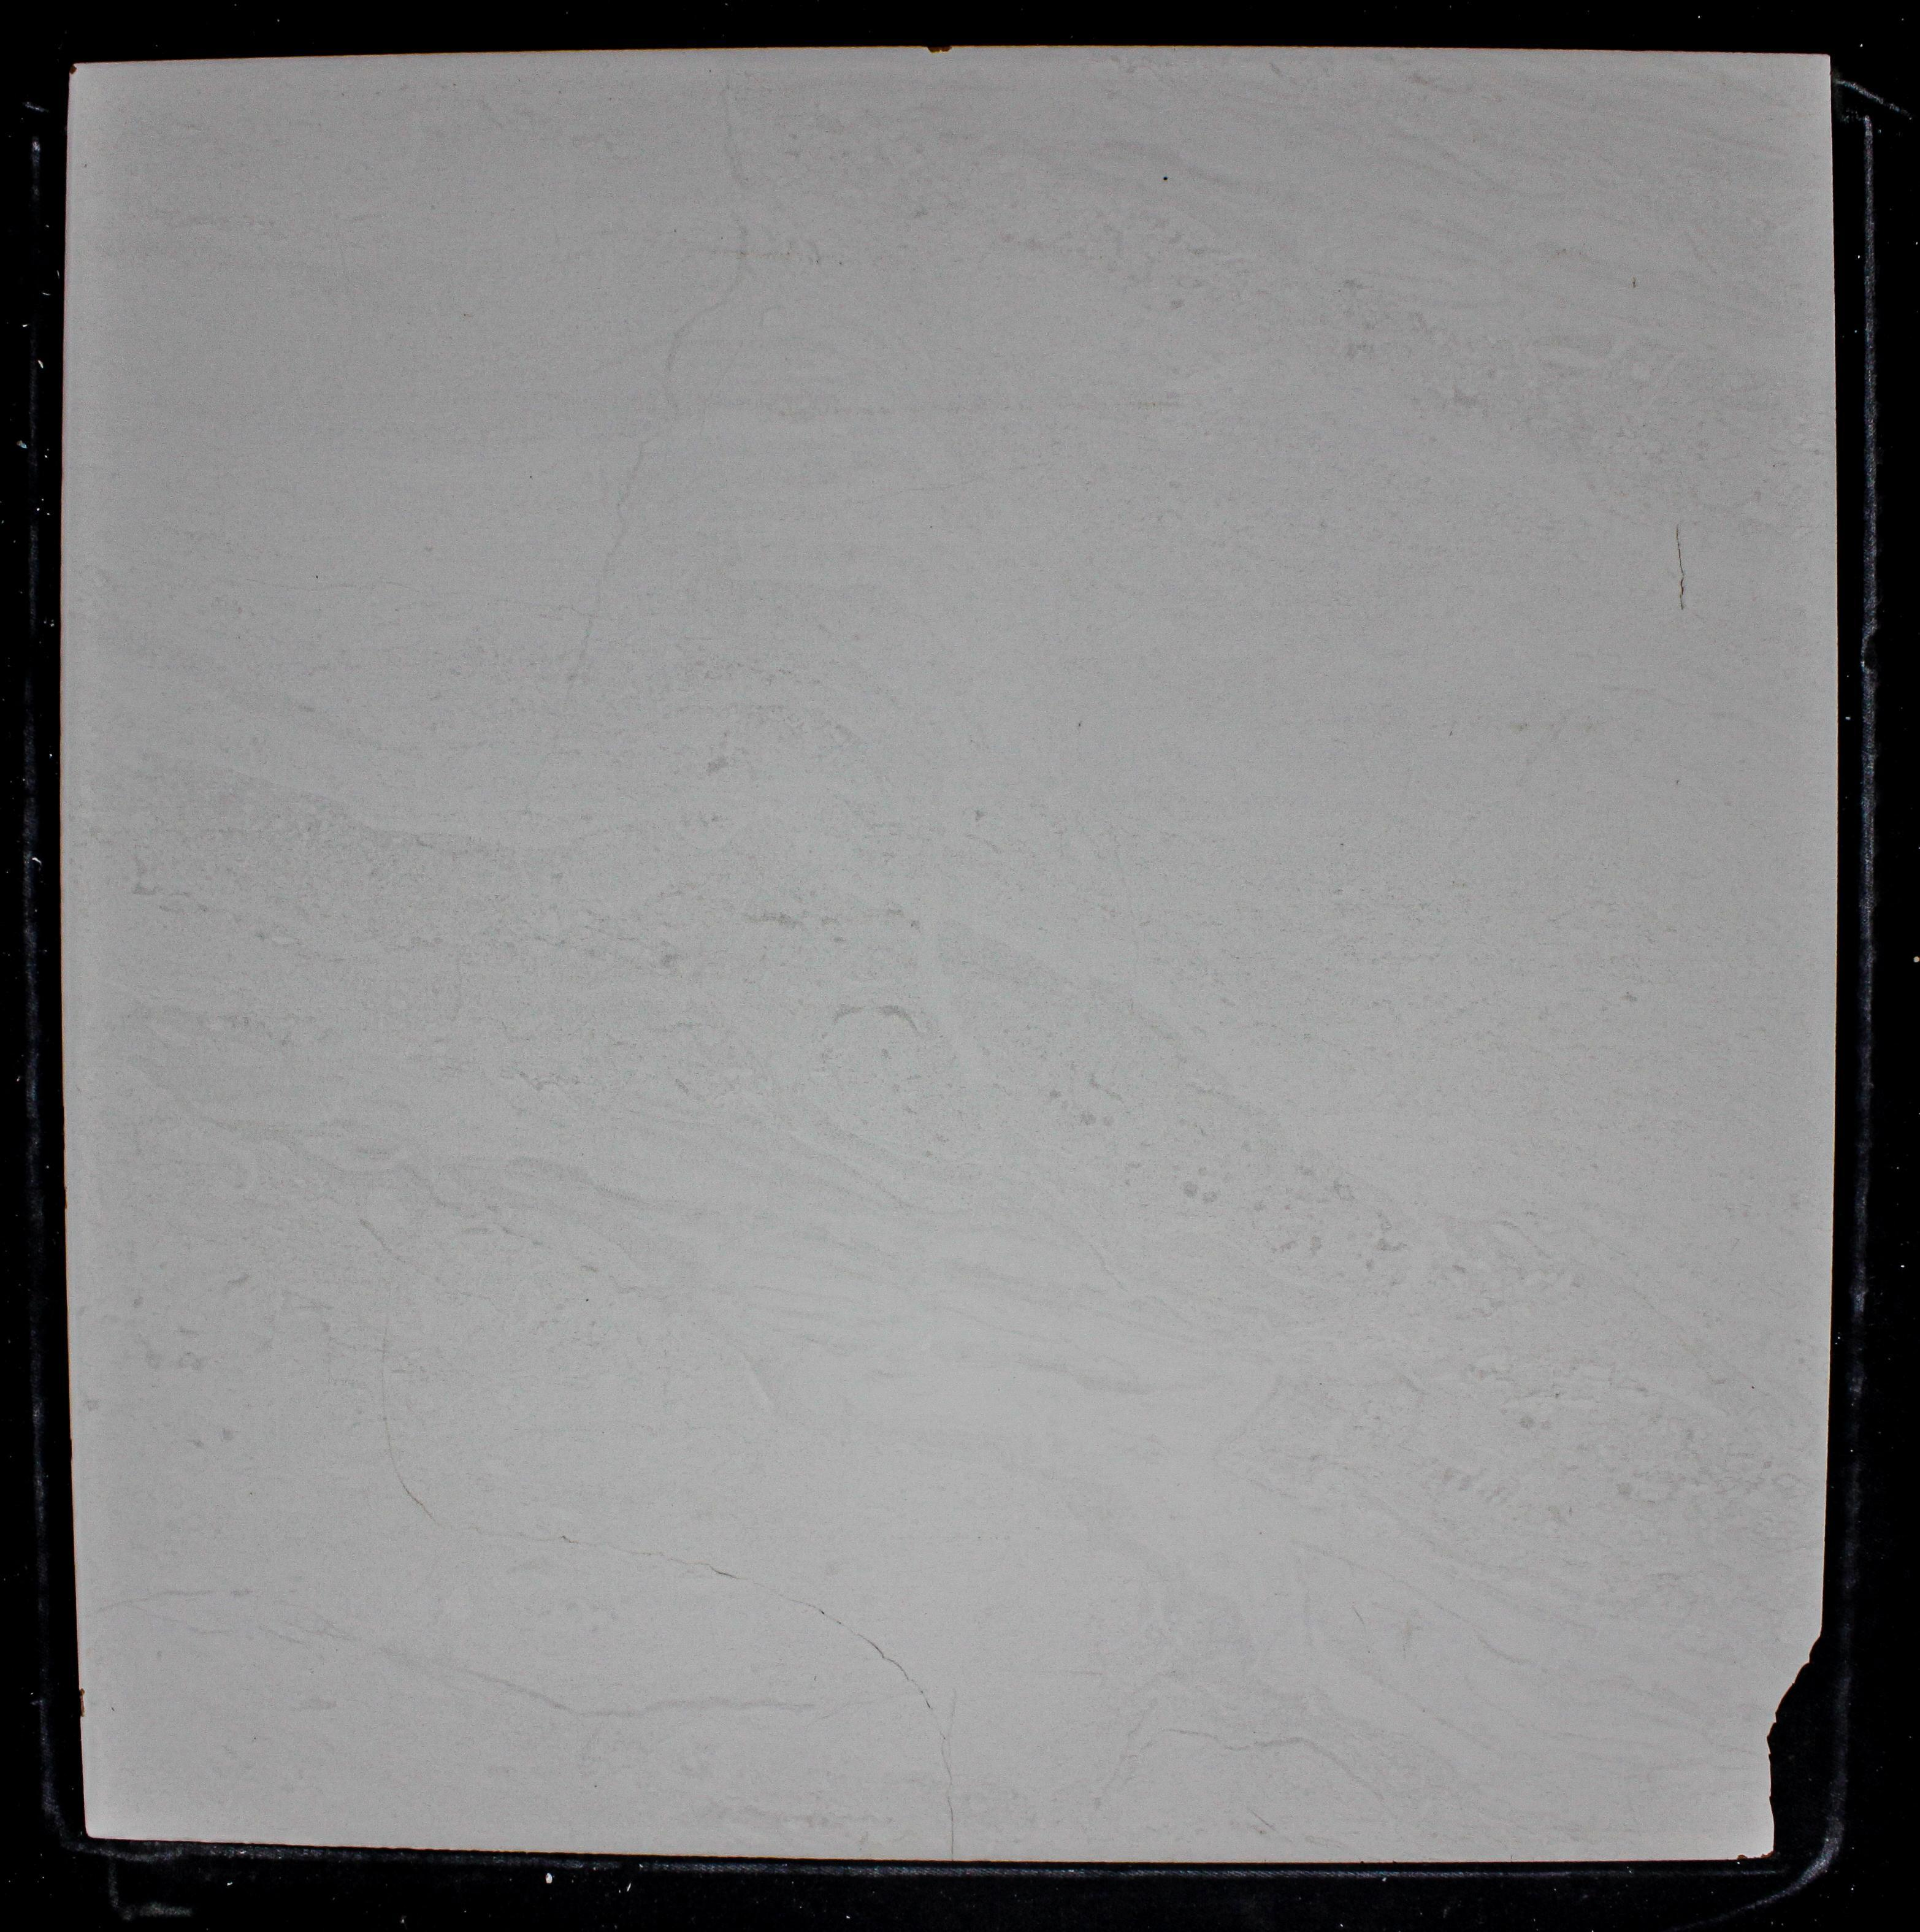edge-chipping: (1765, 1637, 1820, 1858), (77, 1688, 86, 1718), (927, 44, 953, 53), (69, 63, 77, 76)
hole: (1162, 176, 1169, 183)
line: (376, 1322, 436, 1522), (856, 1631, 935, 1710), (621, 1545, 754, 1582), (765, 1586, 853, 1630), (937, 1740, 958, 1856), (1674, 526, 1686, 610)
